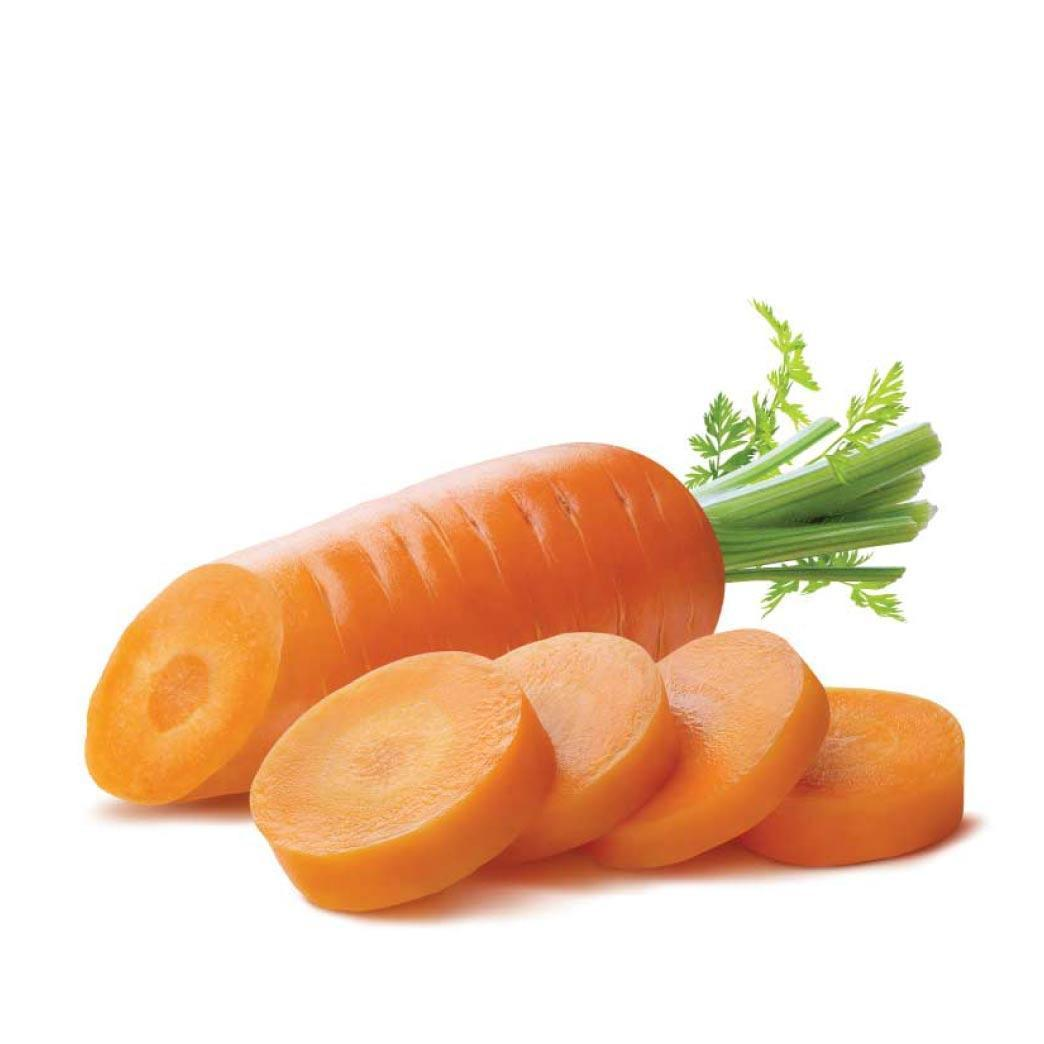carrot: (84, 278, 990, 981)
